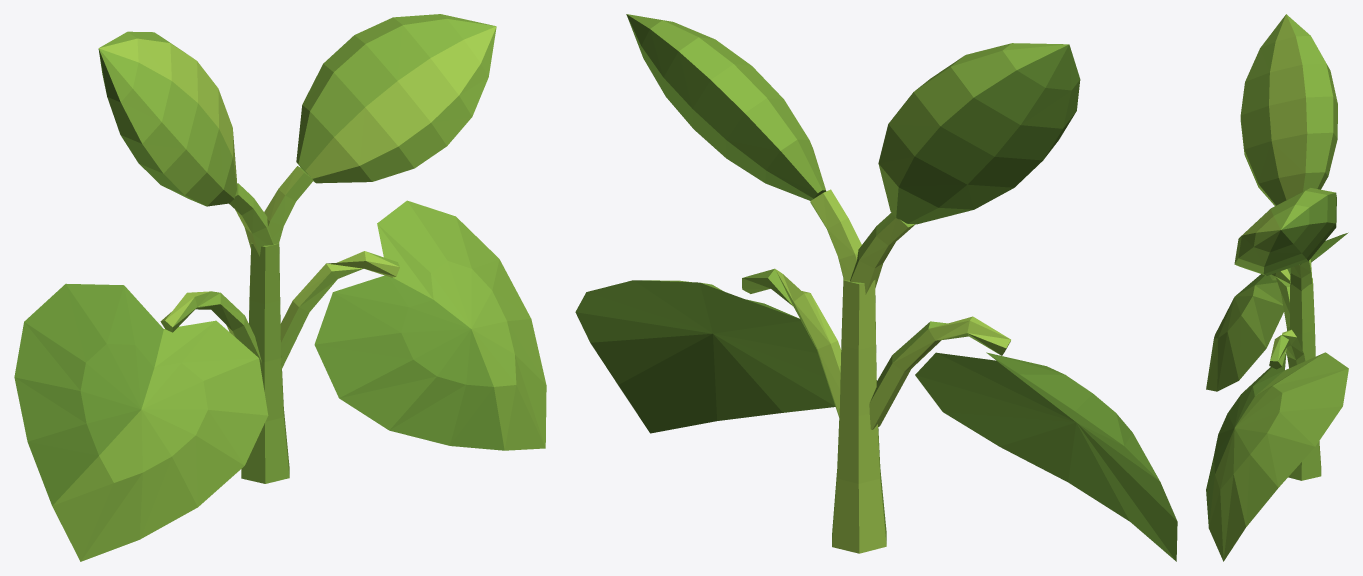
File: FMS_Crop_Sunflower_S1.fbx
The picture shows the model from 3 angles, left to right: view 1: azimuth 30°, elevation 25°; view 2: azimuth 150°, elevation 25°; view 3: azimuth 270°, elevation 25°; orthographic projection. The views are drawn at different scales.
Parts seen in each view (by area): view 1: FMS_Crop_Sunflower_S1; view 2: FMS_Crop_Sunflower_S1; view 3: FMS_Crop_Sunflower_S1.
Boxes of the visible parts, x1=… form: FMS_Crop_Sunflower_S1: x1=14, y1=14, x2=546, y2=561; FMS_Crop_Sunflower_S1: x1=575, y1=14, x2=1177, y2=561; FMS_Crop_Sunflower_S1: x1=1206, y1=14, x2=1348, y2=561.
Bounding box in the file's own units: 0.3968 × 0.3571 × 0.1194.
